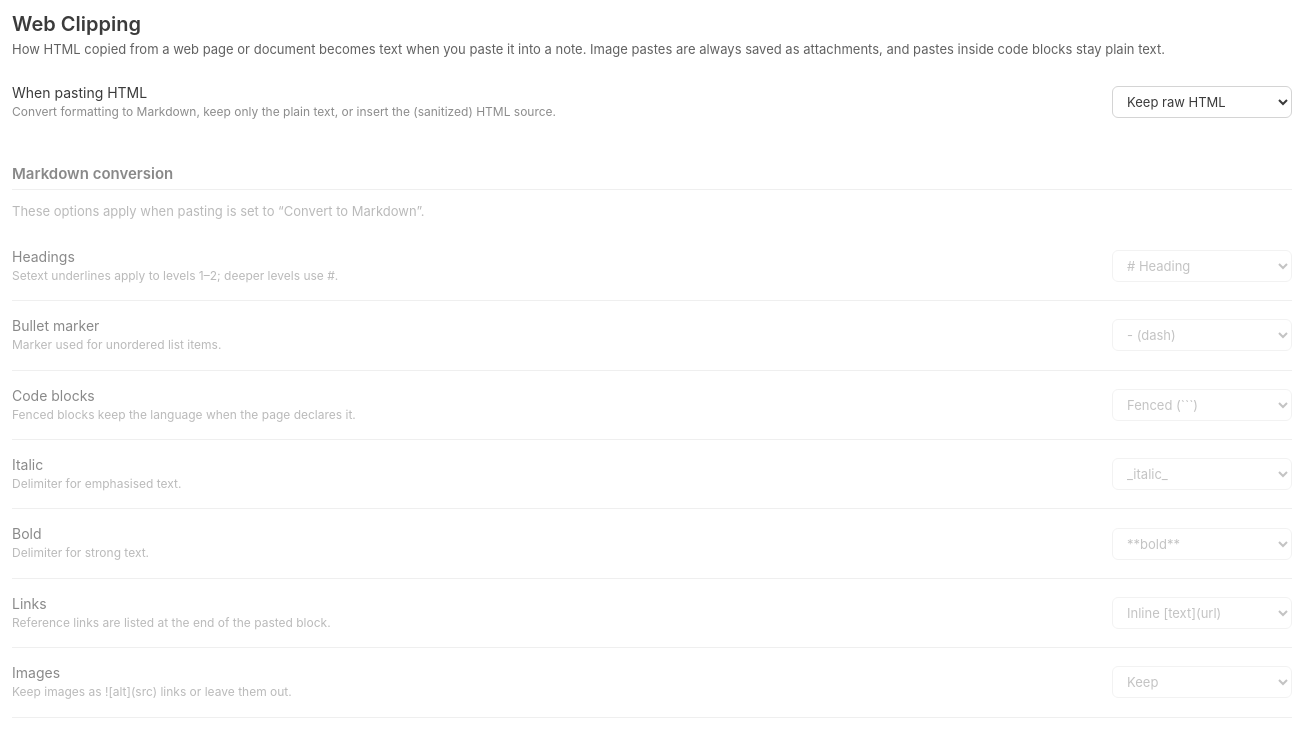
Test: ClippingSection › disables conversion options unless converting to Markdown
Select "Convert to Markdown" in the dropdown with test id "clipping-htmlPaste" at x=1202, y=102, box [1112,86,1292,118]
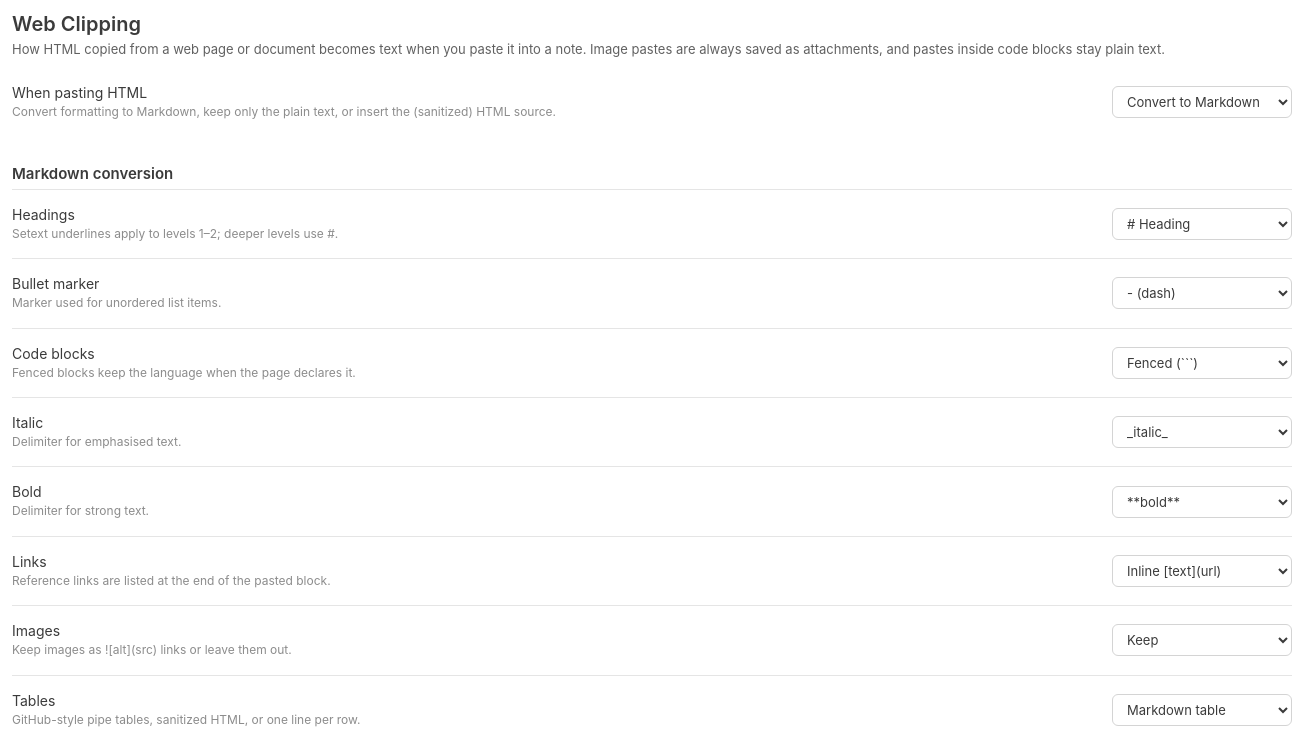
Now the dropdown with test id "clipping-tables" is enabled, box [1112,694,1292,726]
